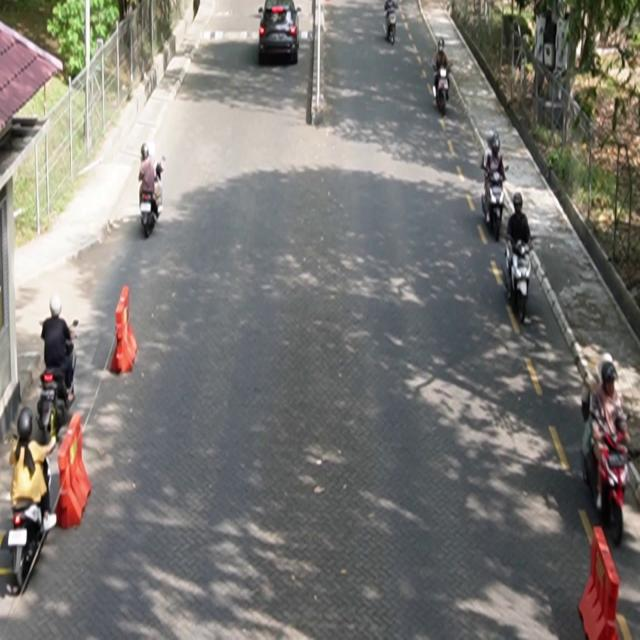car: (259, 1, 302, 66)
